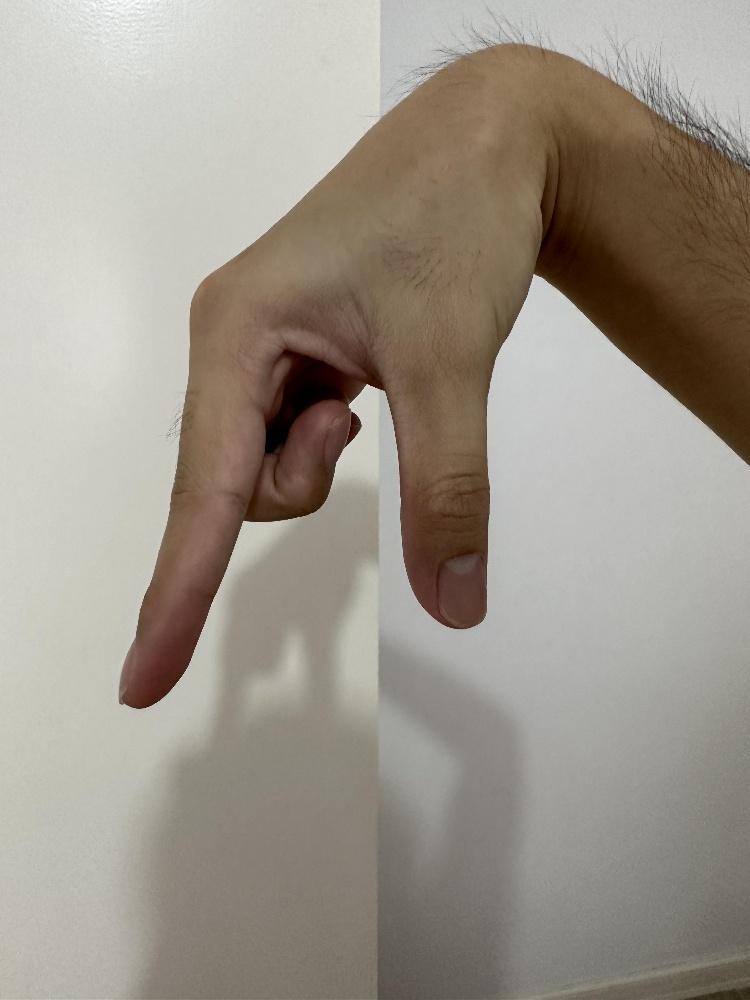q: (114, 36, 561, 712)
